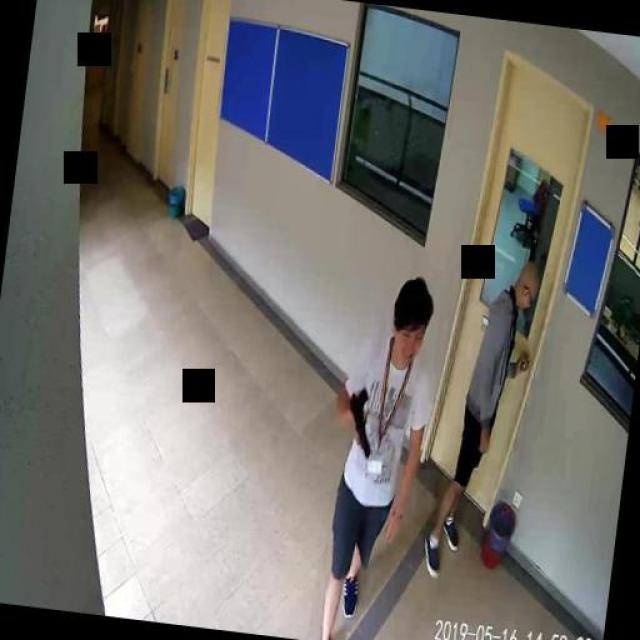gun: (344, 385, 376, 455)
